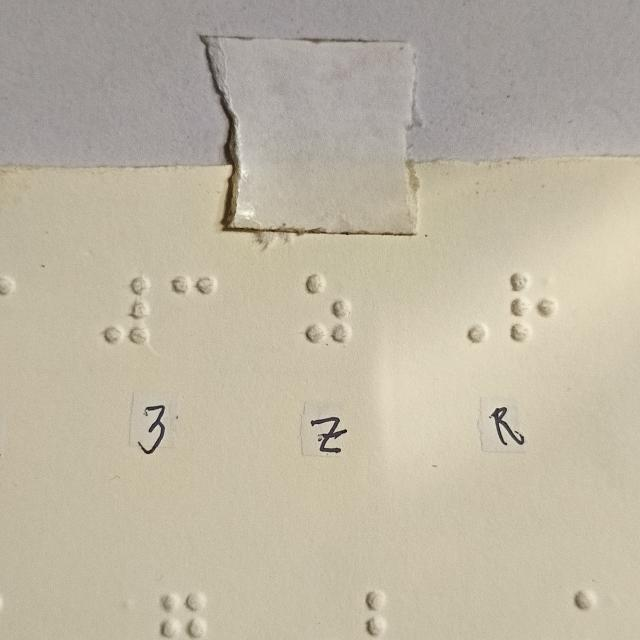capital_sign: (439, 271, 488, 347)
digit_3: (167, 269, 217, 344)
letter_R: (507, 270, 557, 346)
letter_z: (301, 270, 351, 346)
number_sign: (101, 272, 151, 348)
